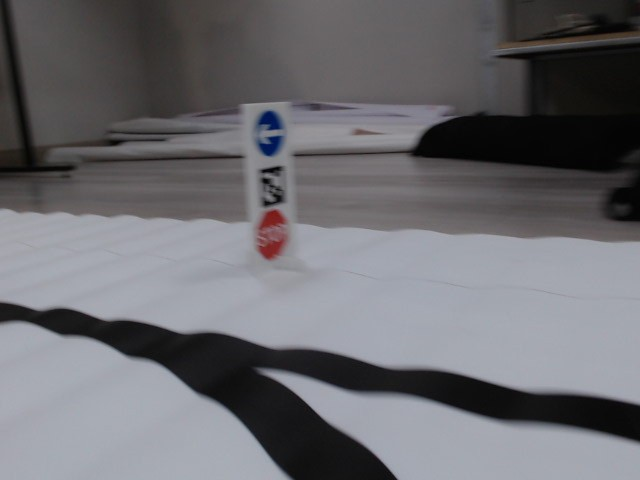Stop: (258, 211, 288, 259)
